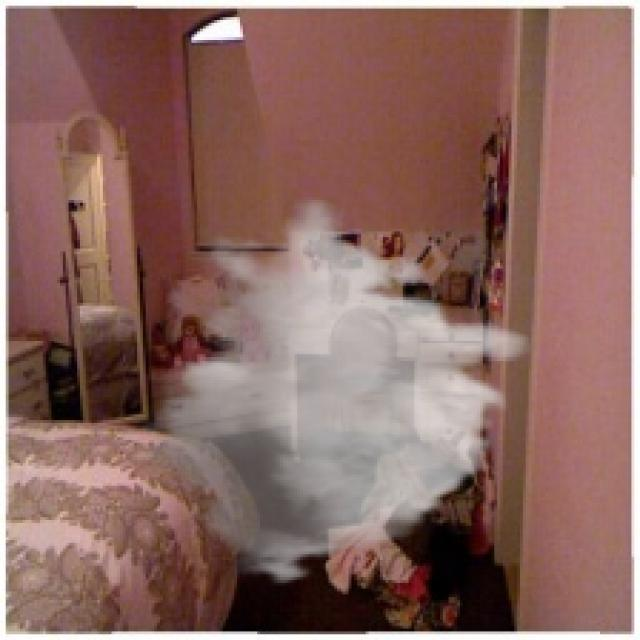smoke: (134, 197, 537, 589)
